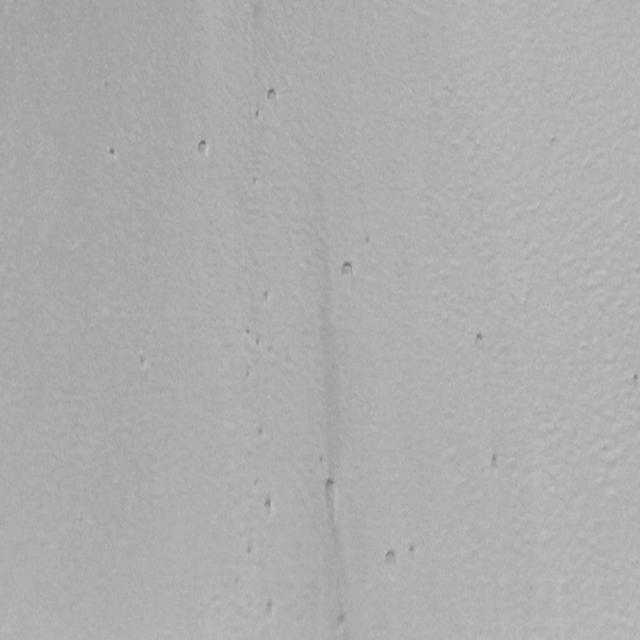pin holes: (318, 477, 342, 521), (337, 258, 359, 284), (380, 546, 402, 572), (485, 450, 504, 475), (260, 494, 279, 518), (261, 597, 279, 621), (471, 328, 489, 351), (195, 136, 212, 160), (265, 86, 282, 107), (334, 611, 350, 631), (256, 425, 270, 444), (407, 543, 422, 559), (243, 544, 257, 560), (108, 147, 121, 163), (261, 291, 273, 306), (245, 326, 252, 337), (318, 454, 324, 466), (255, 109, 260, 123), (255, 339, 261, 346)
